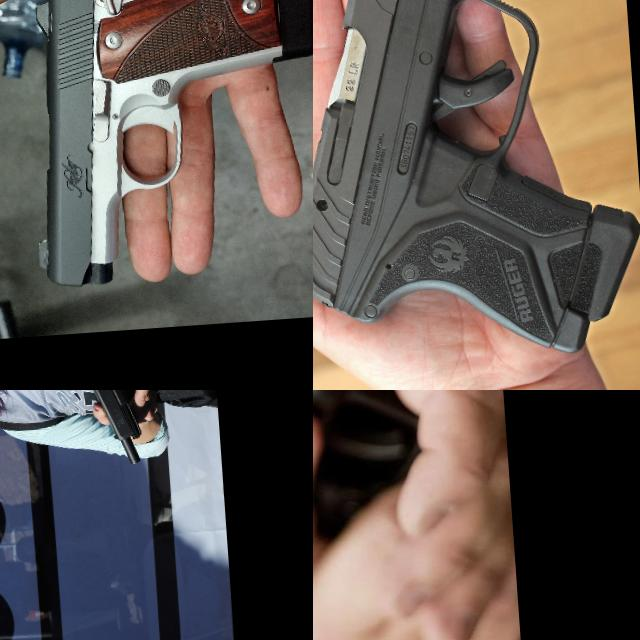handgun: (313, 0, 640, 375), (13, 0, 313, 294), (313, 390, 464, 597), (42, 390, 167, 487)
